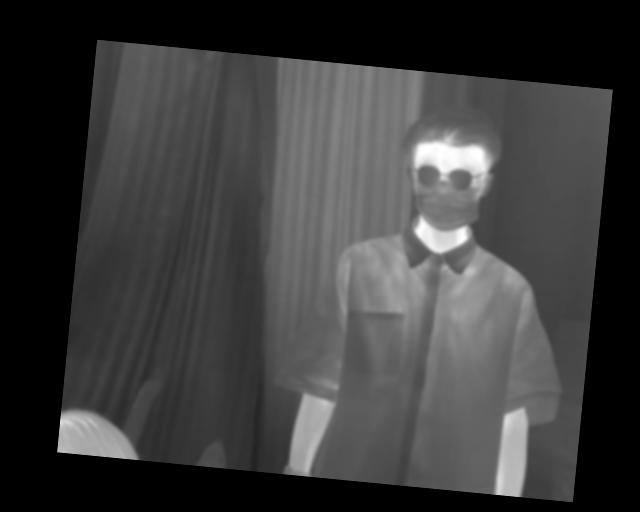face: (391, 101, 509, 237)
